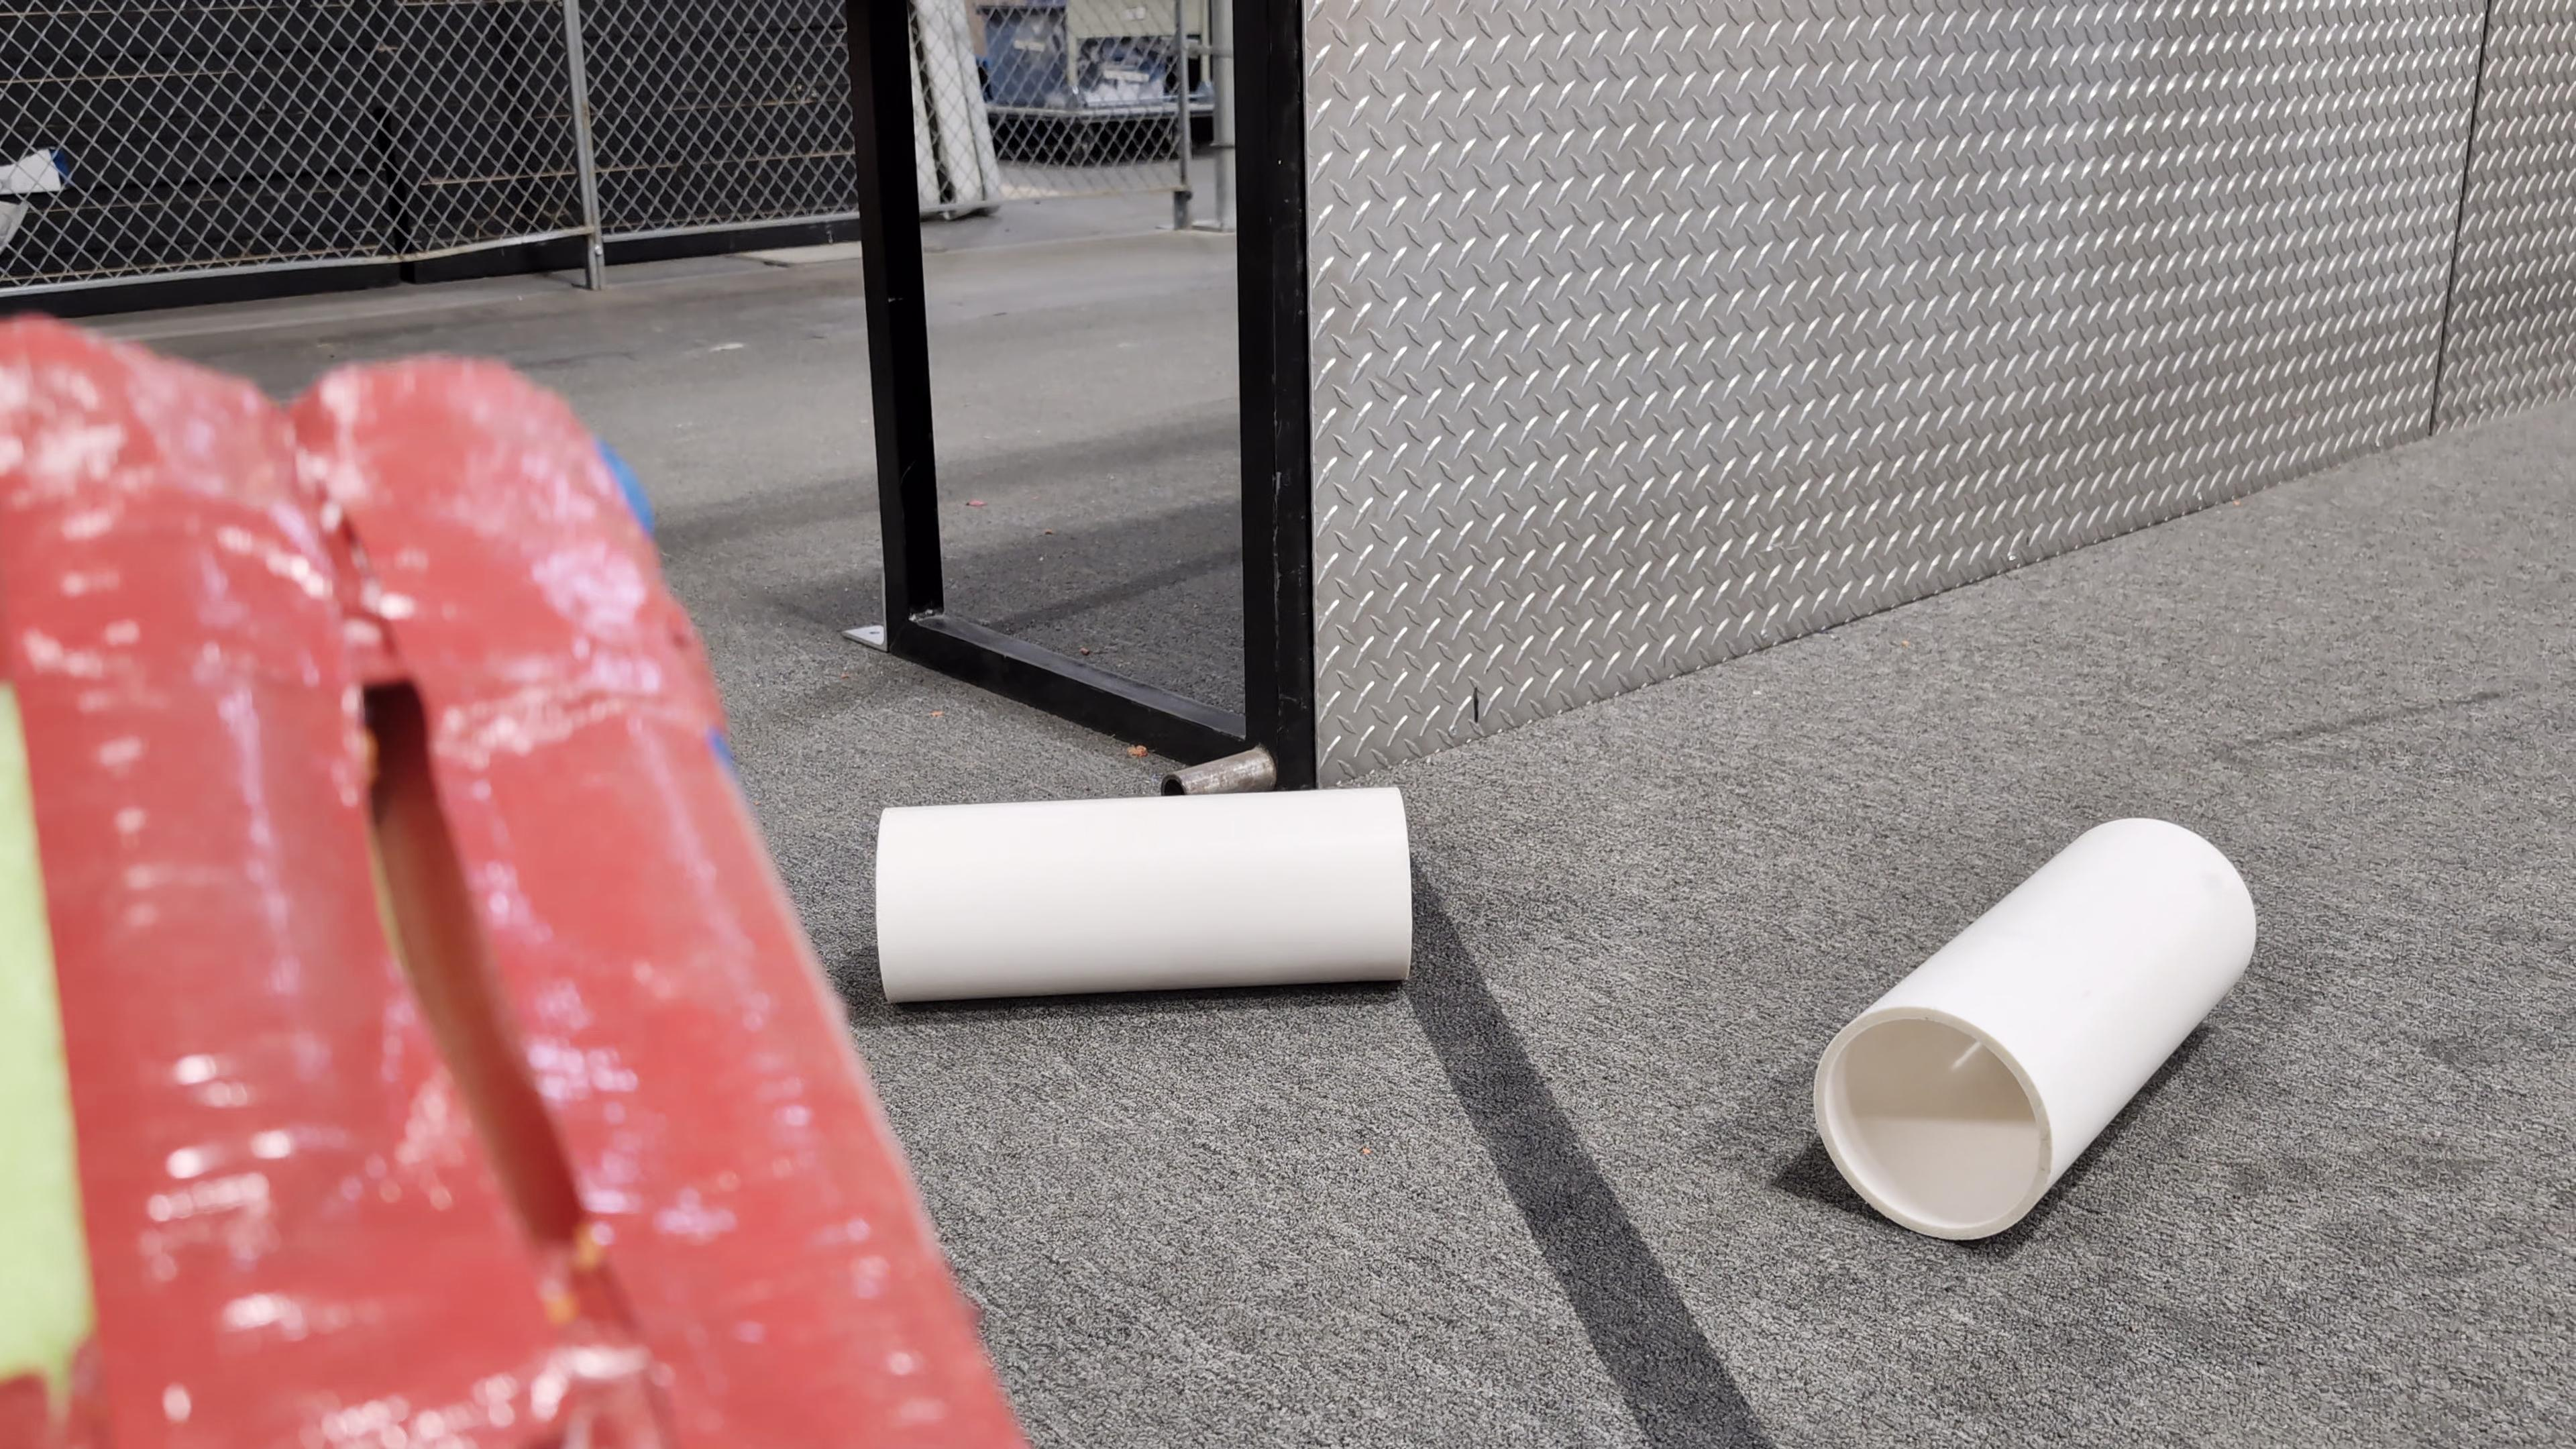coral: (1810, 812, 2258, 1238), (872, 780, 1417, 1003)
